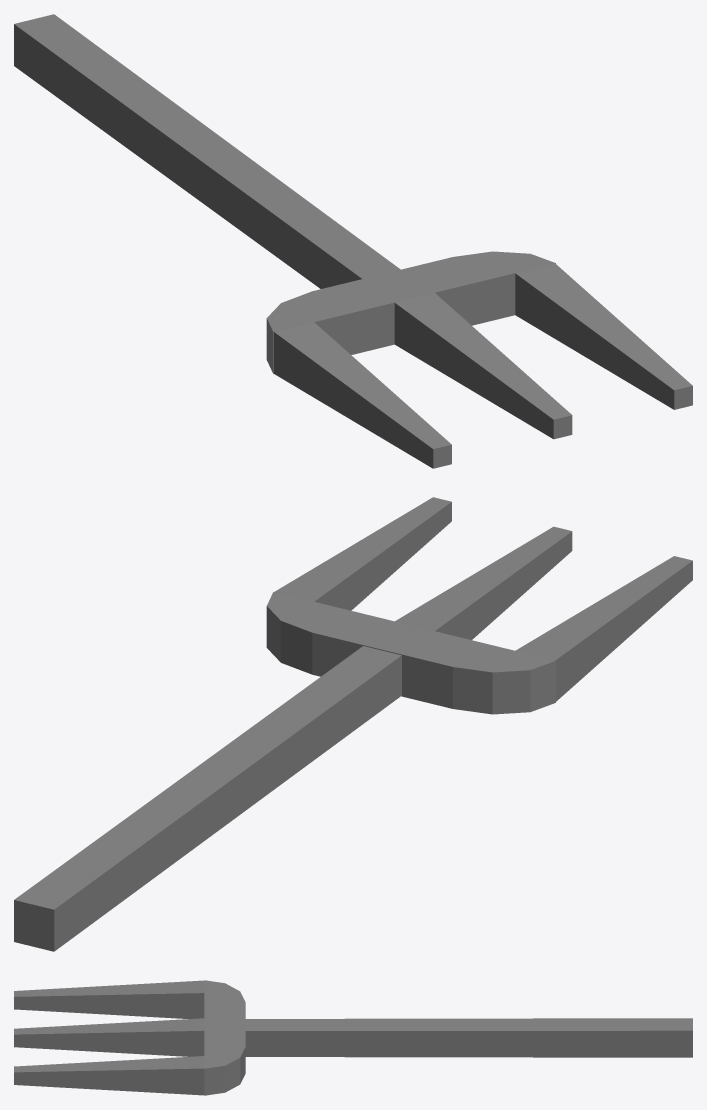
File: fork textured.fbx
3 views of the same model, one above another, from view 1: azimuth 30°, elevation 25°; view 2: azimuth 150°, elevation 25°; view 3: azimuth 270°, elevation 25° (orthographic). The views are drawn at different scales.
Parts seen in each view (by area): view 1: Middle Piece.001, rectangle Piece, Middle Piece, Left Piece, Right Piece; view 2: Middle Piece.001, rectangle Piece, Right Piece, Middle Piece, Left Piece; view 3: Middle Piece.001, Left Piece, Middle Piece, Right Piece, rectangle Piece.
Boxes of the visible parts, x1,y1,x2,y2 form: Middle Piece.001: (14, 14, 400, 288); rectangle Piece: (266, 251, 555, 373); Middle Piece: (394, 293, 572, 439); Left Piece: (515, 263, 692, 409); Right Piece: (274, 322, 451, 468); Middle Piece.001: (14, 646, 401, 951); rectangle Piece: (266, 592, 555, 714); Right Piece: (515, 556, 692, 701); Middle Piece: (395, 526, 572, 639); Left Piece: (274, 497, 451, 610); Middle Piece.001: (245, 1018, 692, 1057); Left Piece: (14, 1056, 204, 1095); Middle Piece: (14, 1018, 204, 1056); Right Piece: (14, 980, 204, 1018); rectangle Piece: (204, 980, 245, 1095).
Bounding box in the file's own units: 111 × 15.73 × 359.
